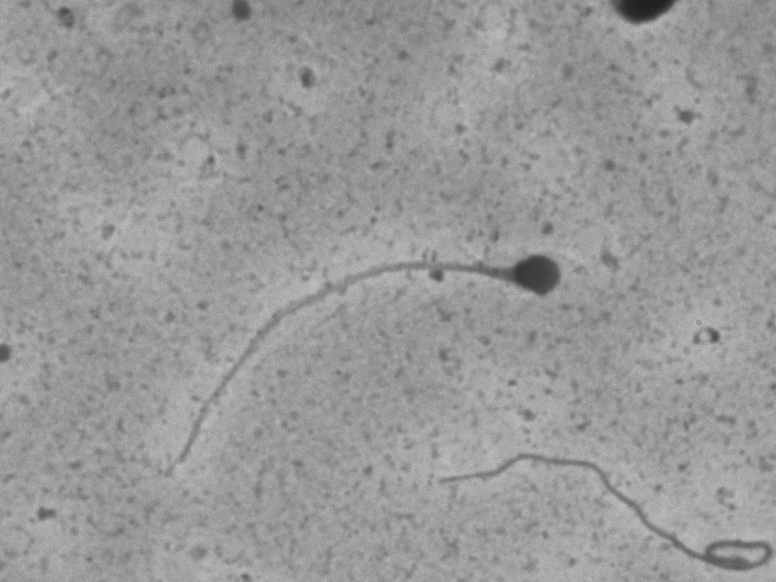Abnormal: (129, 198, 564, 444)
